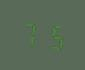five: (42, 20, 64, 51)
seven: (19, 18, 41, 49)
